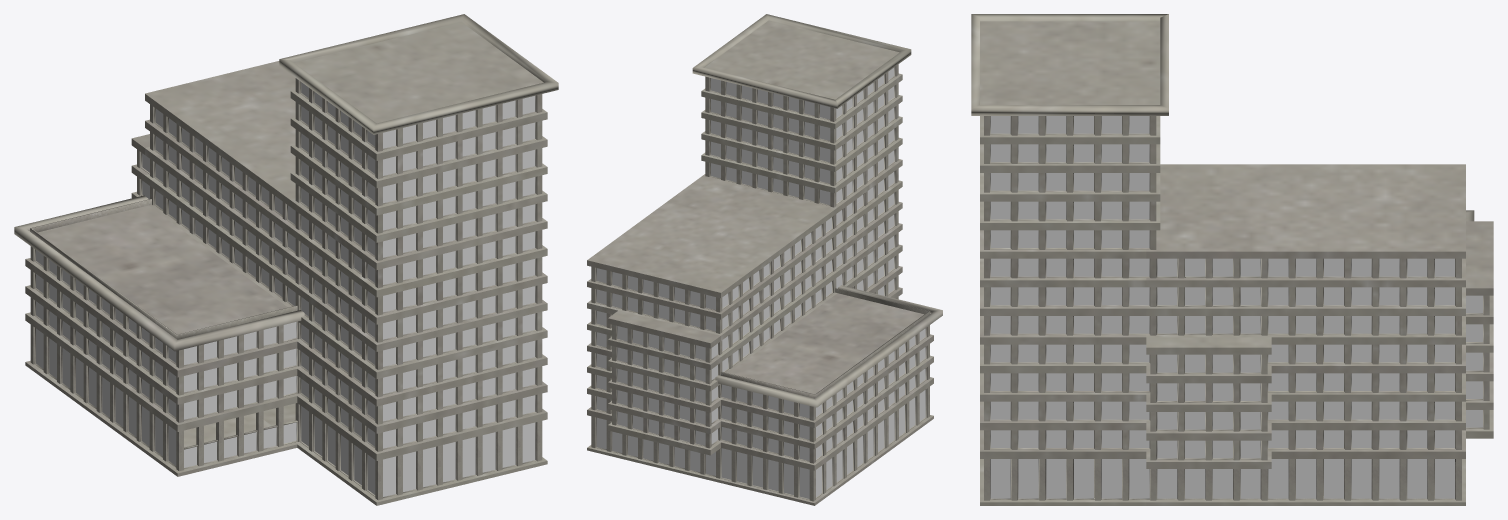
The model's file is simple_office_building_1.glb.
3 renders of one model, left to right at view 1: azimuth 30°, elevation 25°; view 2: azimuth 150°, elevation 25°; view 3: azimuth 270°, elevation 25°, orthographic. The views are drawn at different scales.
Visible parts, largest first — view 1: Root_Sci-fi ConcreteWhite_0, Root_GL_dark_Glass_fres_G_0; view 2: Root_Sci-fi ConcreteWhite_0, Root_GL_dark_Glass_fres_G_0; view 3: Root_Sci-fi ConcreteWhite_0, Root_GL_dark_Glass_fres_G_0.
Boxes of the visible parts, x1,y1,x2,y2 form: Root_Sci-fi ConcreteWhite_0: (14, 14, 558, 505); Root_GL_dark_Glass_fres_G_0: (36, 82, 535, 496); Root_Sci-fi ConcreteWhite_0: (587, 14, 942, 505); Root_GL_dark_Glass_fres_G_0: (596, 67, 925, 498); Root_Sci-fi ConcreteWhite_0: (971, 14, 1493, 505); Root_GL_dark_Glass_fres_G_0: (990, 116, 1482, 498).
Size of the model in its own units: 12.88 by 14.83 by 17.51.
2 materials, 1 textured.
